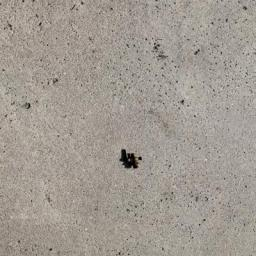FOD: (118, 148, 148, 173)
